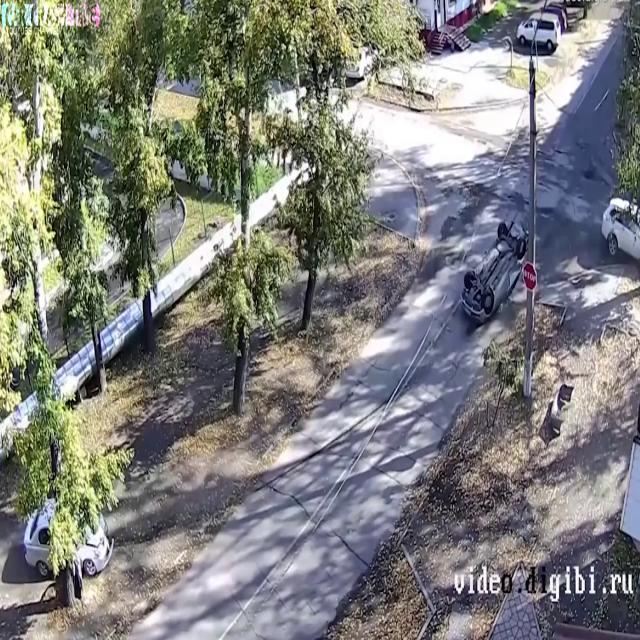Accident: (449, 202, 540, 328)
